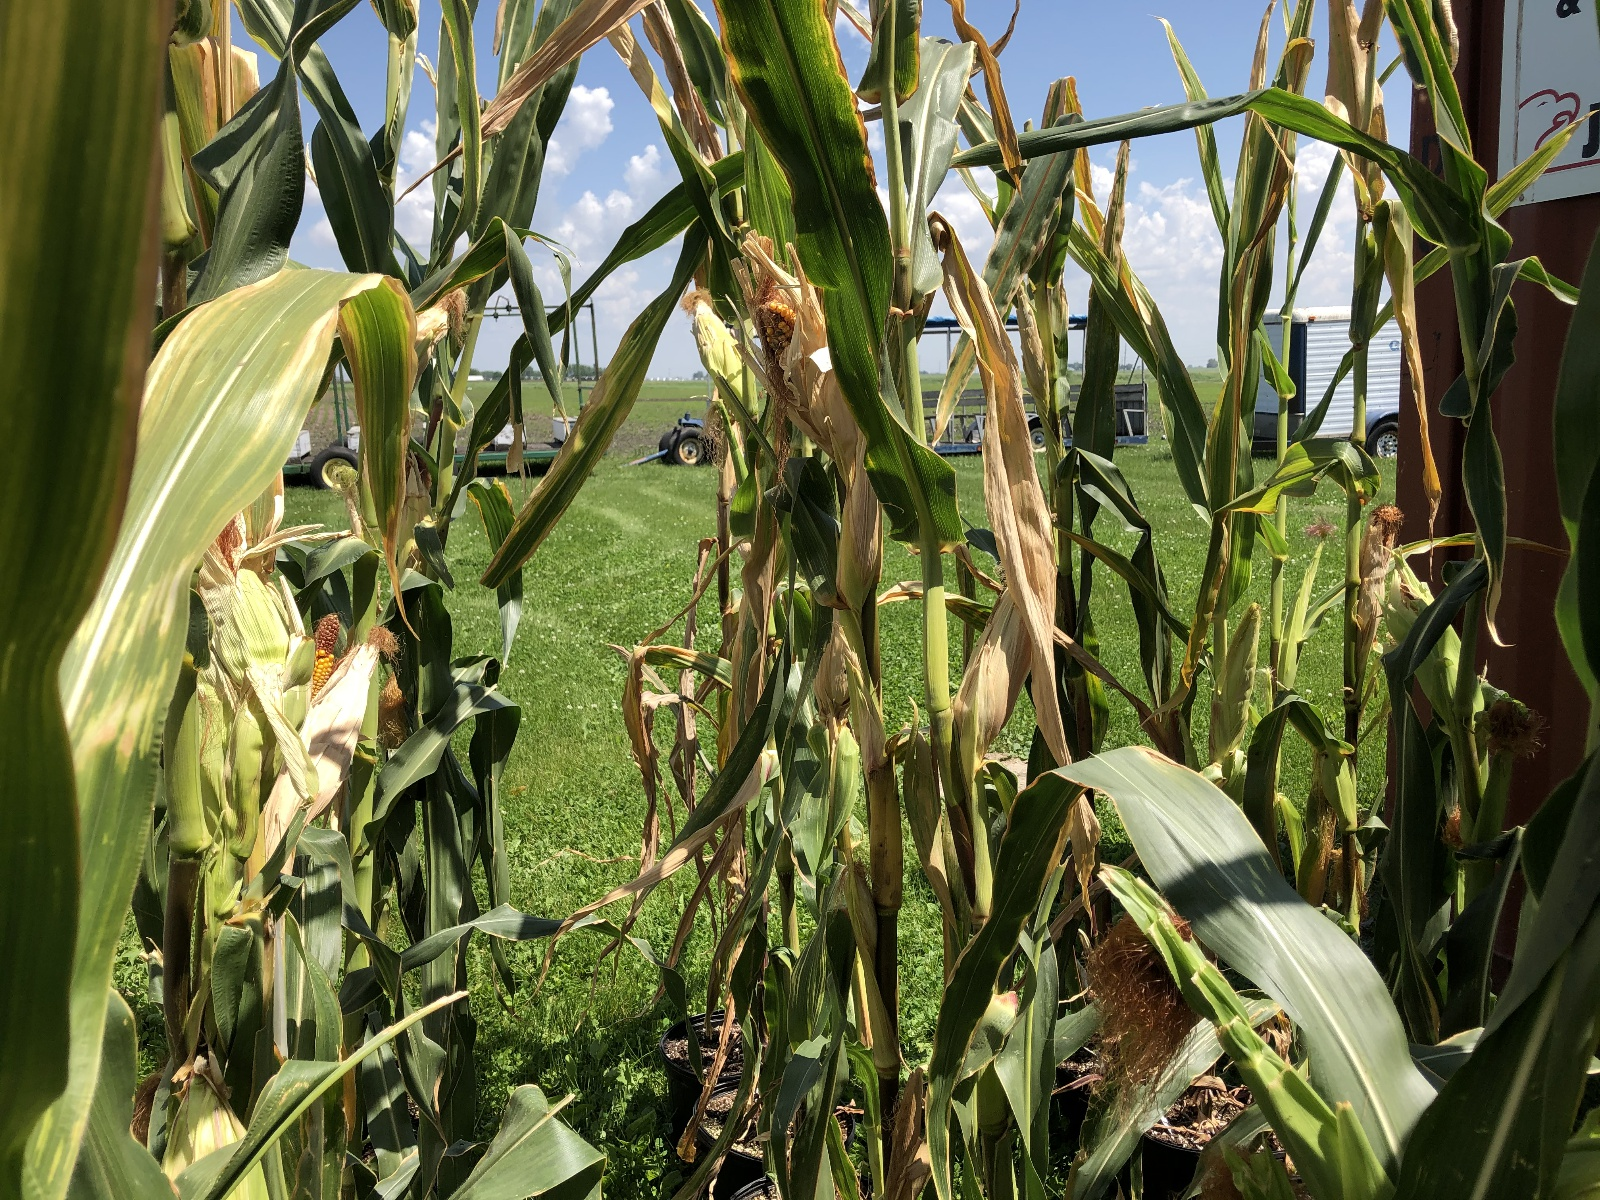ear: (952, 542, 1061, 735), (194, 502, 294, 676), (756, 286, 847, 445), (677, 281, 748, 402), (1359, 499, 1405, 637), (304, 603, 351, 691)
